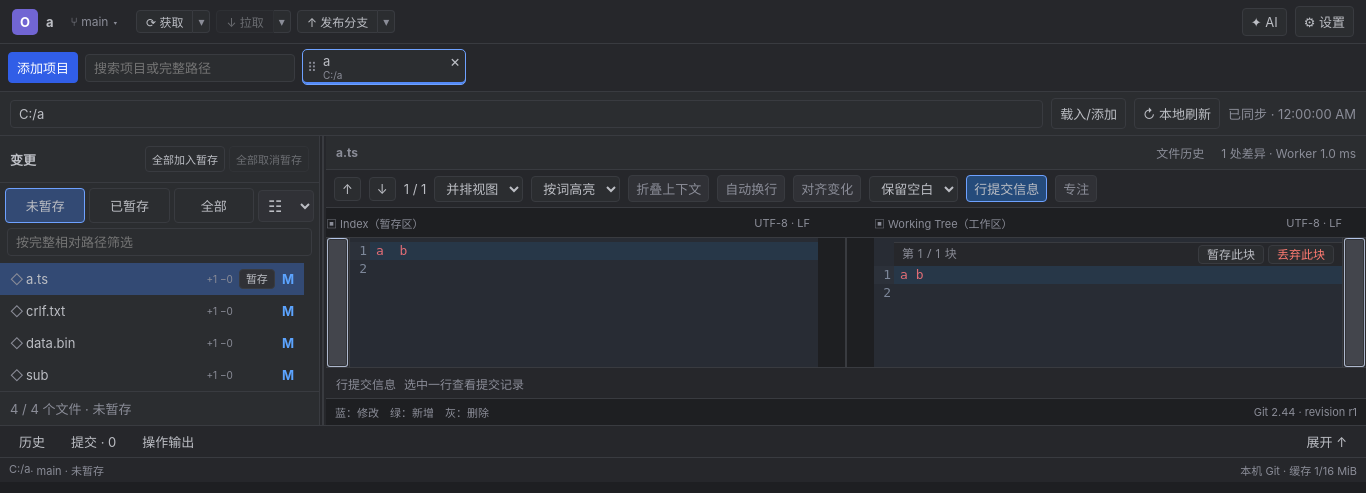
任务 05 阅读体验（App 集成） › CRLF → LF：两侧端点标出换行符，并说明文本相同只有换行符变化
The width and height of the screenshot is (1366, 493).
Step 1. Click the option "◇ crlf.txt +1 −0 M" → (46, 311), box [10,303,294,319]
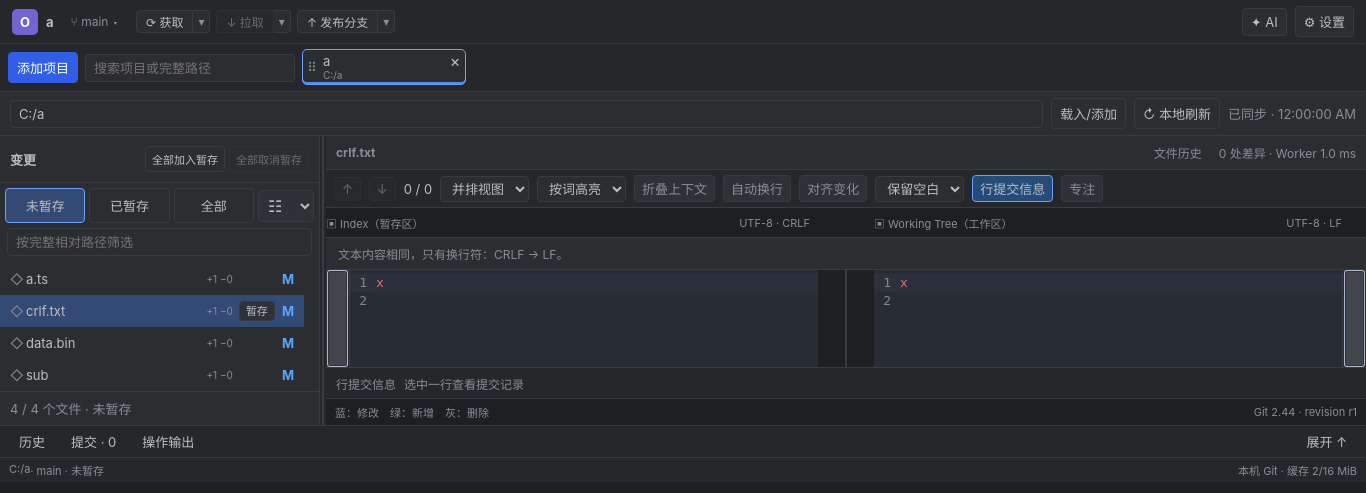
expect the text with class "encoding" reads "UTF-8 · LF": met, box [1286,216,1342,230]
expect the text with class "encoding" reads "UTF-8 · CRLF": met, box [739,216,810,230]
expect the message with class "reading-notice" reads "文本内容相同，只有换行符：CRLF → LF。": met, box [338,247,568,262]
